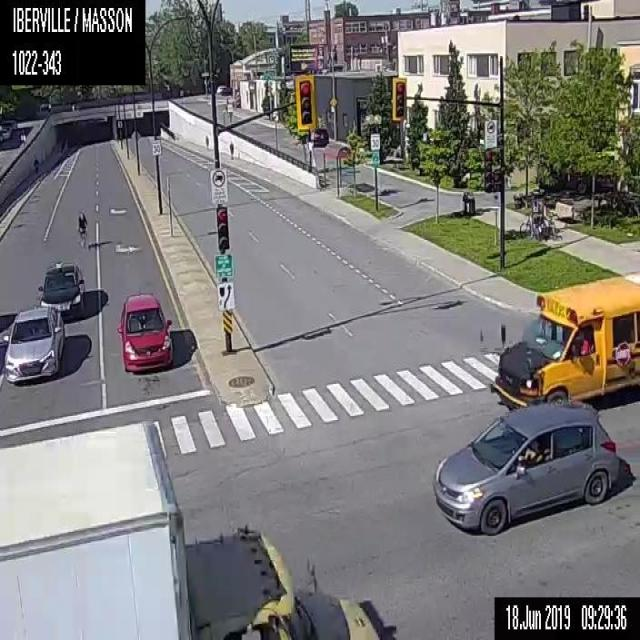bus: (488, 274, 639, 412)
cyclist: (76, 209, 88, 247)
pedestrian: (228, 140, 234, 161), (33, 156, 39, 173), (203, 132, 208, 149)
vehicle: (0, 416, 395, 639), (432, 401, 618, 535), (1, 306, 65, 386), (117, 292, 175, 372), (36, 260, 86, 324), (0, 118, 15, 142), (310, 127, 328, 145), (215, 81, 232, 96)
